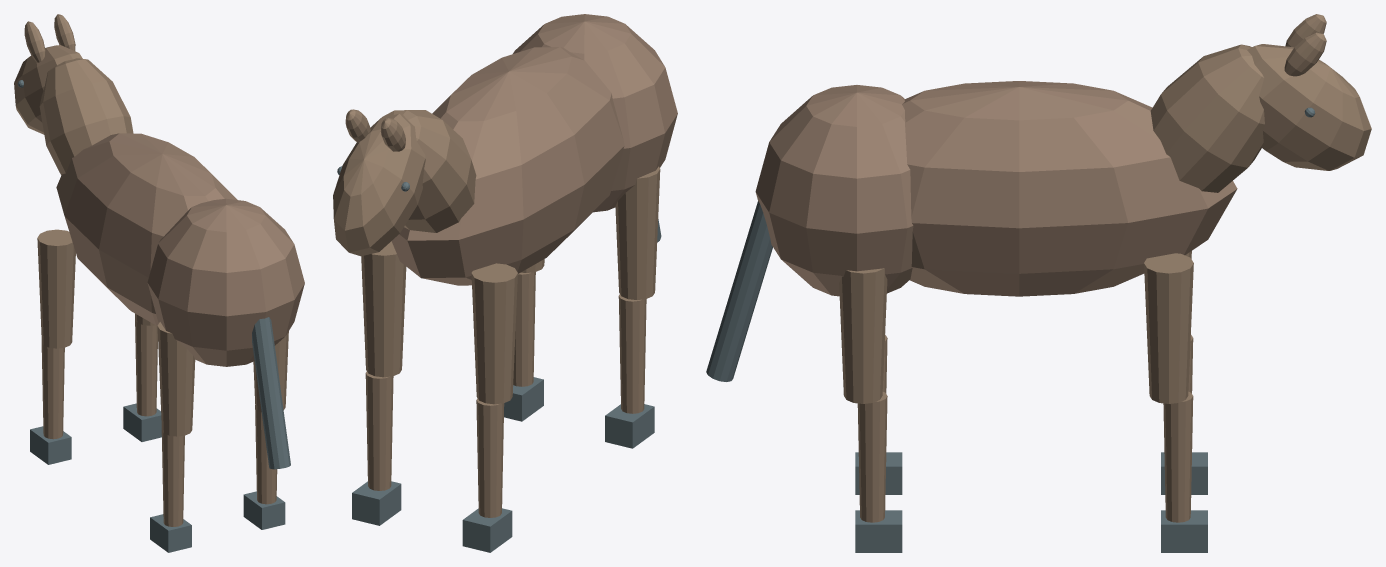
File: AN-HORSE.glb
The picture shows the model from 3 angles, left to right: view 1: azimuth 30°, elevation 25°; view 2: azimuth 150°, elevation 25°; view 3: azimuth 270°, elevation 25°; orthographic projection. The views are drawn at different scales.
Parts seen in each view (by area): view 1: hindquarters, barrel, neck, upper_leg_2, tail, upper_leg_0, skull, lower_leg_2, lower_leg_0, lower_leg_3, lower_leg_1, hoof_1 (+5 smaller); view 2: barrel, hindquarters, skull, neck, upper_leg_2, upper_leg_3, upper_leg_0, lower_leg_0, lower_leg_2, lower_leg_3, lower_leg_1, hoof_2 (+4 smaller); view 3: barrel, hindquarters, neck, skull, upper_leg_3, upper_leg_1, tail, lower_leg_1, lower_leg_3, hoof_1, hoof_3, ear (+2 smaller).
Part boxes in pixels (x1,y1,x2,y2): hindquarters: [147, 198, 304, 366]; barrel: [56, 133, 237, 325]; neck: [39, 58, 133, 175]; upper_leg_2: [37, 229, 75, 348]; tail: [252, 317, 290, 469]; upper_leg_0: [157, 322, 195, 436]; skull: [14, 45, 82, 134]; lower_leg_2: [41, 342, 64, 439]; lower_leg_0: [161, 428, 184, 526]; lower_leg_3: [135, 318, 157, 416]; lower_leg_1: [255, 405, 277, 504]; hoof_1: [243, 491, 285, 529]; barrel: [391, 47, 624, 285]; hindquarters: [513, 14, 677, 212]; skull: [333, 113, 425, 256]; neck: [382, 110, 476, 232]; upper_leg_2: [471, 263, 517, 404]; upper_leg_3: [361, 241, 406, 377]; upper_leg_0: [615, 166, 660, 299]; lower_leg_0: [618, 294, 646, 413]; lower_leg_2: [476, 398, 504, 517]; lower_leg_3: [365, 371, 393, 490]; lower_leg_1: [513, 272, 535, 386]; hoof_2: [462, 508, 512, 552]; barrel: [902, 81, 1237, 296]; hindquarters: [755, 85, 913, 296]; neck: [1150, 44, 1264, 192]; skull: [1247, 44, 1371, 170]; upper_leg_3: [1144, 253, 1193, 403]; upper_leg_1: [839, 268, 887, 403]; tail: [706, 201, 772, 381]; lower_leg_1: [857, 392, 887, 522]; lower_leg_3: [1163, 391, 1193, 522]; hoof_1: [855, 510, 902, 552]; hoof_3: [1161, 510, 1207, 552]; ear: [1284, 32, 1326, 76].
Size of the model in its own units: 0.64 by 1.74 by 2.13.
